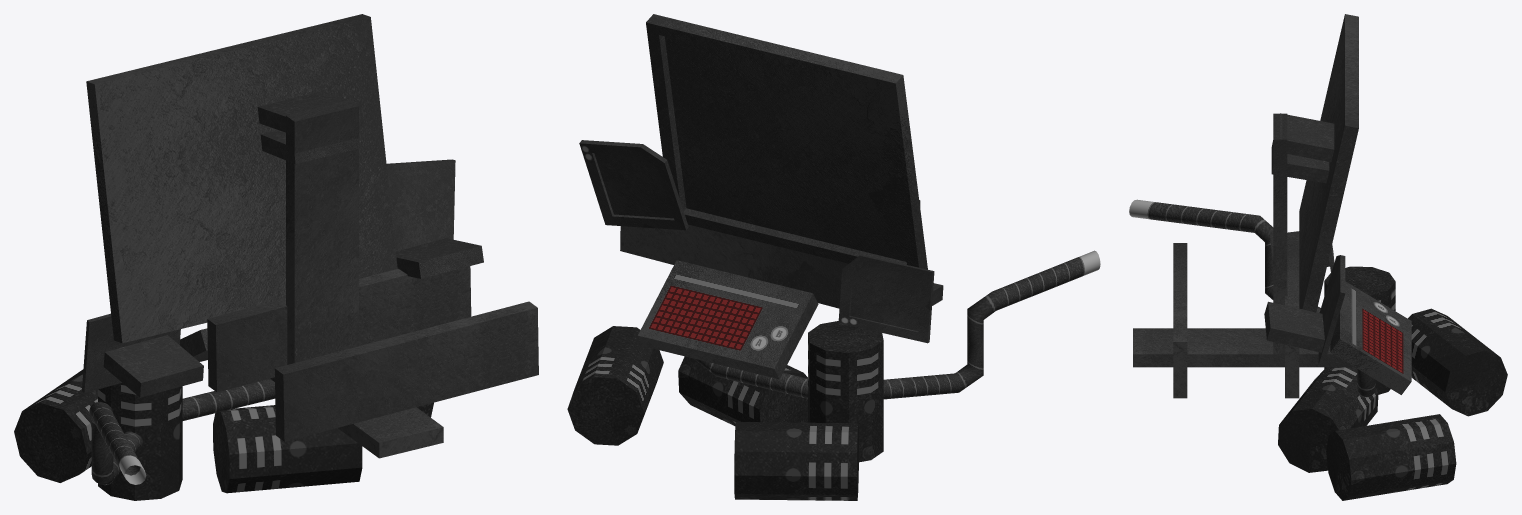
File: monitor.FBX
3 views of the same model, side by side, from view 1: azimuth 30°, elevation 25°; view 2: azimuth 150°, elevation 25°; view 3: azimuth 270°, elevation 25° (orthographic). The views are drawn at different scales.
Parts seen in each view (by area): view 1: Monitor; view 2: Monitor; view 3: Monitor.
Part boxes in pixels (left/top/right/bottom): Monitor: left=14, top=14, right=538, bottom=500; Monitor: left=567, top=14, right=1100, bottom=500; Monitor: left=1129, top=14, right=1507, bottom=500.
Size of the model in its own units: 110 by 102 by 96.72.
